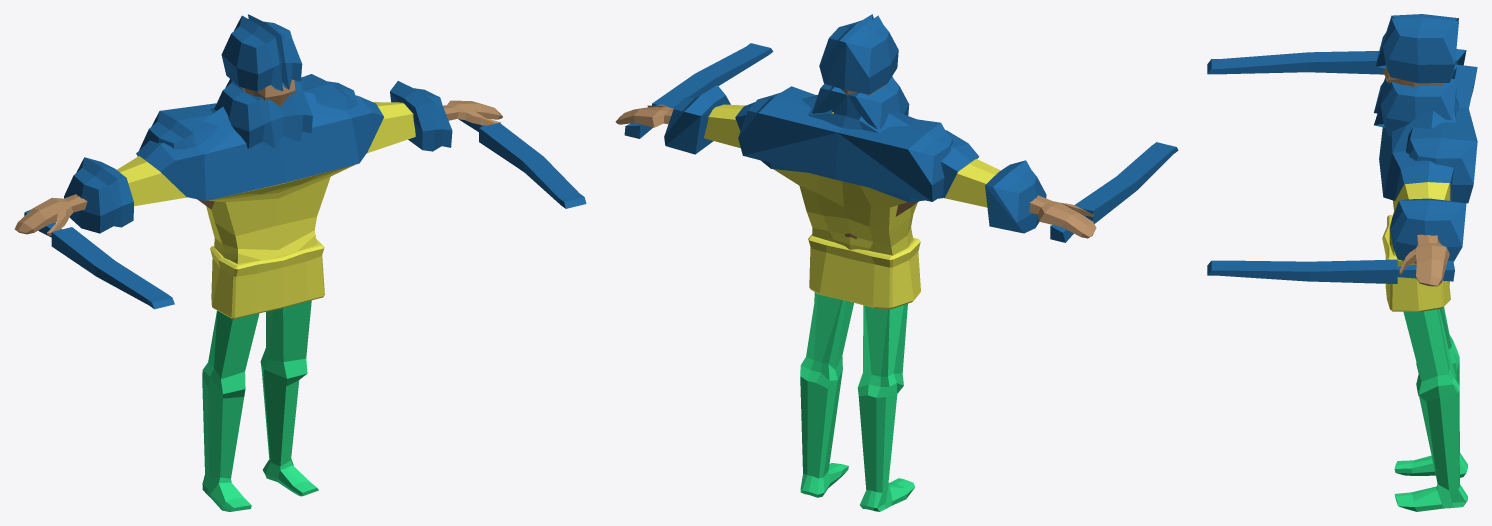
Rendered from mergeHuman4.fbx.
3 views of the same model, side by side, from view 1: azimuth 30°, elevation 25°; view 2: azimuth 150°, elevation 25°; view 3: azimuth 270°, elevation 25° (orthographic).
Visible parts, largest first — view 1: Cube.001; view 2: Cube.001; view 3: Cube.001.
Part boxes in pixels (bbox=[...]): Cube.001: bbox=[14, 14, 586, 511]; Cube.001: bbox=[615, 14, 1178, 511]; Cube.001: bbox=[1207, 14, 1477, 511].
Bounding box in the file's own units: 2594 × 2435 × 1257.
